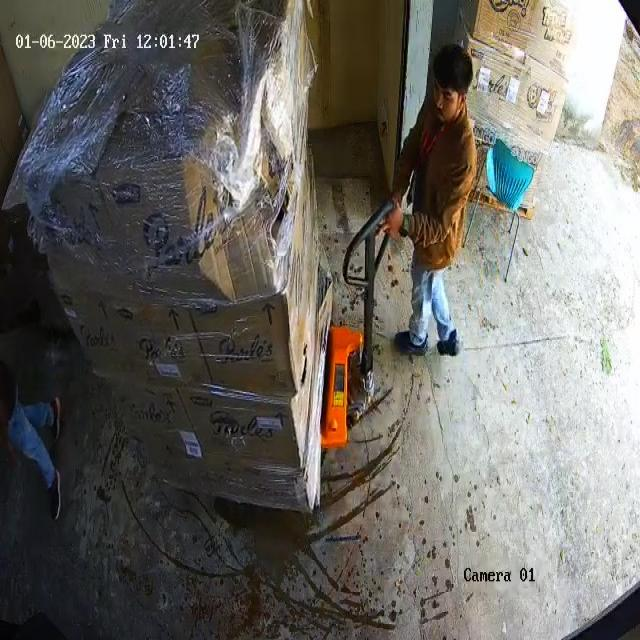leakage: (280, 337, 327, 410)
squeeze: (184, 55, 295, 261)
